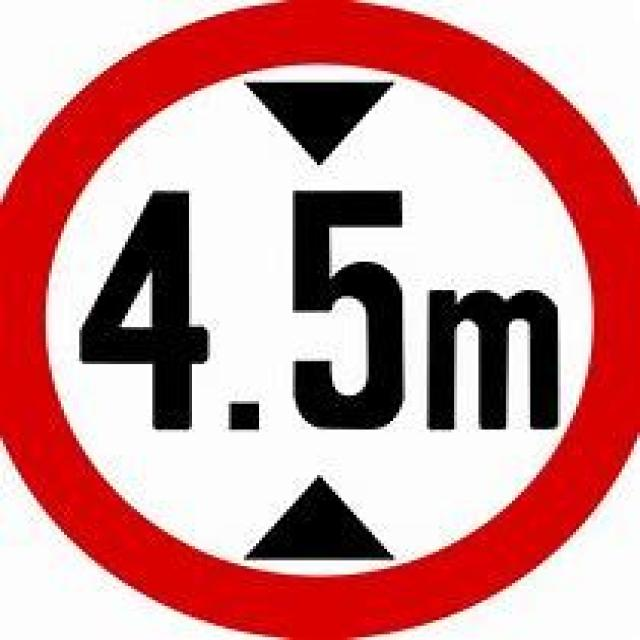height_limit: (0, 0, 637, 637)
